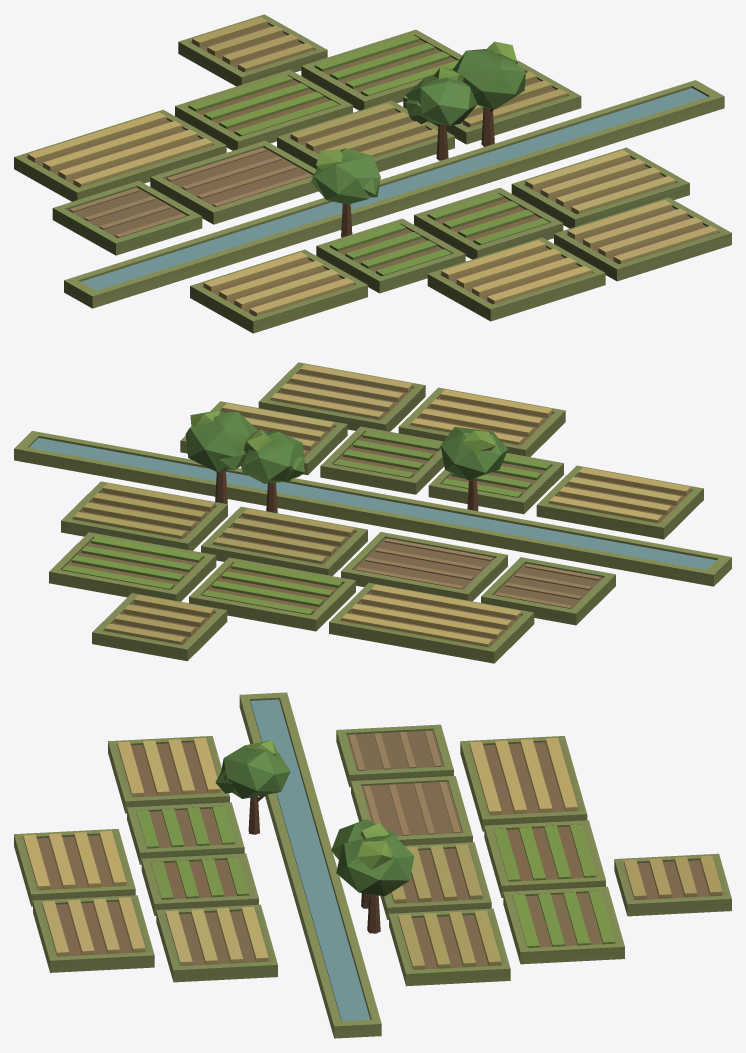
File: farm_fields.glb
3 renders of one model, top to bottom at view 1: azimuth 30°, elevation 25°; view 2: azimuth 150°, elevation 25°; view 3: azimuth 270°, elevation 25°, orthographic. The views are drawn at different scales.
Parts seen in each view (by area): view 1: farm_fields; view 2: farm_fields; view 3: farm_fields.
Part boxes in pixels (x1,y1,x2,y2): farm_fields: (14,14,731,333); farm_fields: (14,362,731,663); farm_fields: (14,692,731,1038).
Bounding box in the file's own units: 16.5 × 2.26 × 14.99.
